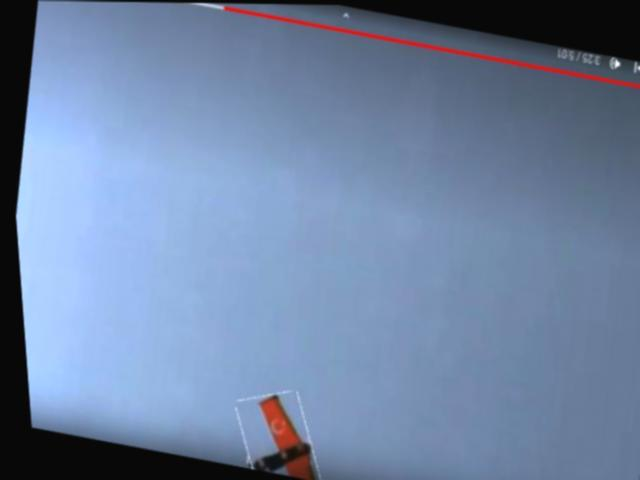insansiz-hava-araci: (223, 382, 327, 480)
